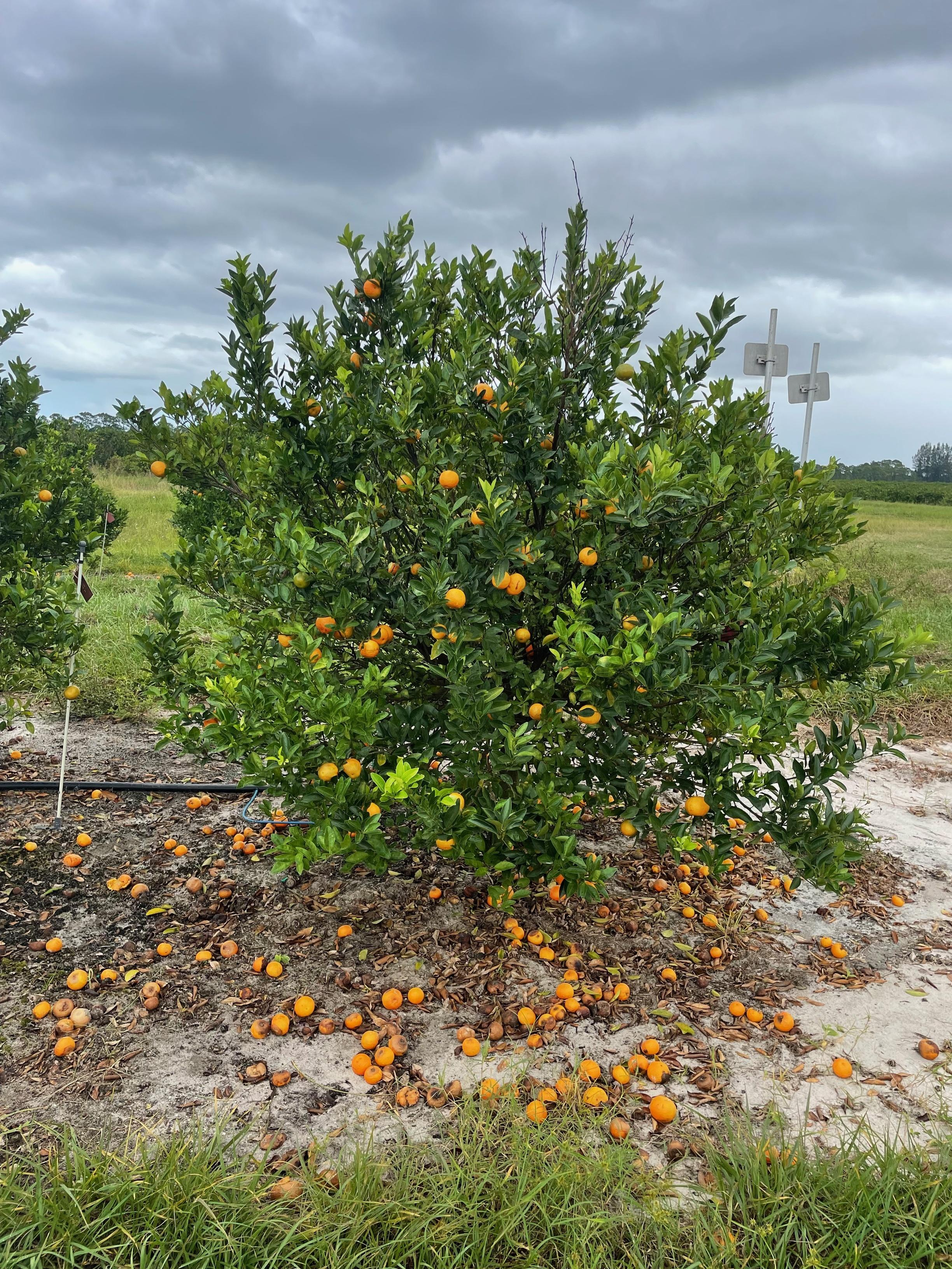fruit_on_ground: (683, 794, 711, 818), (513, 544, 540, 568), (359, 308, 385, 332), (572, 496, 596, 521), (470, 381, 495, 405), (576, 703, 602, 726), (316, 759, 340, 783), (443, 587, 467, 611), (631, 457, 656, 480), (469, 505, 492, 529), (301, 395, 324, 419), (361, 278, 385, 301), (437, 468, 461, 491), (576, 545, 600, 568), (619, 611, 644, 633), (443, 791, 467, 813), (341, 755, 363, 779), (488, 398, 511, 420), (536, 432, 559, 454), (400, 424, 423, 446), (290, 569, 313, 591), (612, 361, 635, 383), (394, 472, 416, 495), (505, 572, 526, 596), (369, 499, 391, 521), (490, 569, 512, 591), (328, 472, 351, 493), (602, 496, 623, 517), (635, 553, 656, 574), (345, 350, 366, 371), (359, 638, 380, 659), (315, 614, 336, 635), (352, 282, 373, 303), (332, 621, 354, 641), (618, 818, 639, 838), (527, 701, 548, 721), (368, 626, 389, 646), (148, 459, 169, 479), (434, 832, 456, 851), (274, 629, 295, 648), (429, 622, 450, 641), (360, 802, 381, 821), (376, 624, 395, 645), (305, 646, 324, 666), (200, 715, 220, 733), (62, 683, 82, 701), (513, 624, 532, 642), (632, 680, 651, 697), (11, 444, 30, 460), (36, 488, 55, 504), (522, 641, 539, 658), (385, 561, 402, 578), (549, 704, 566, 720), (488, 430, 505, 446), (408, 561, 424, 577), (556, 662, 573, 677), (791, 468, 807, 483), (807, 676, 823, 691), (584, 849, 600, 863), (191, 488, 200, 496)
fruit_on_tree: (268, 1176, 301, 1203), (649, 1094, 677, 1122), (580, 1084, 609, 1108), (316, 1166, 342, 1191), (293, 993, 318, 1018), (646, 1059, 672, 1083), (917, 1035, 941, 1061), (710, 1227, 737, 1250), (608, 1116, 632, 1140), (65, 967, 89, 991), (394, 1085, 419, 1108), (576, 1058, 602, 1080), (525, 1100, 548, 1124), (773, 1009, 796, 1033), (831, 1055, 854, 1079), (381, 987, 404, 1010), (693, 1071, 718, 1092), (479, 1076, 501, 1099), (51, 995, 74, 1017), (626, 1051, 650, 1072), (53, 1037, 77, 1058), (515, 1004, 537, 1026), (425, 1086, 447, 1108), (70, 1007, 92, 1029), (373, 1043, 396, 1064), (760, 1142, 780, 1166), (270, 1012, 290, 1036), (664, 1139, 686, 1160), (360, 1031, 382, 1052), (780, 1145, 800, 1168), (639, 1035, 662, 1055), (242, 1062, 266, 1081), (502, 916, 523, 937), (485, 1021, 506, 1042), (389, 1034, 411, 1054), (350, 1052, 370, 1074), (250, 1016, 270, 1038), (500, 1082, 521, 1102), (548, 1002, 568, 1023), (611, 1064, 632, 1084), (270, 1068, 292, 1087), (31, 998, 51, 1018), (364, 1065, 384, 1085), (613, 981, 632, 1002), (461, 1039, 482, 1058), (555, 1075, 575, 1094), (142, 987, 161, 1007), (343, 1010, 363, 1029), (406, 985, 425, 1005), (537, 1085, 558, 1103), (128, 881, 149, 899), (555, 981, 574, 1000), (141, 980, 161, 998), (658, 966, 678, 984), (219, 939, 239, 957), (54, 1017, 75, 1034), (485, 890, 504, 908), (727, 1000, 746, 1018), (265, 959, 284, 977), (744, 1004, 763, 1022), (587, 984, 605, 1002), (548, 884, 566, 902), (317, 1017, 335, 1035), (537, 1014, 556, 1031), (700, 911, 719, 928), (185, 876, 203, 893), (75, 830, 93, 847), (45, 935, 63, 952), (621, 918, 640, 934), (456, 1024, 475, 1040), (525, 1033, 544, 1049), (193, 947, 212, 963), (61, 851, 81, 866), (607, 983, 623, 1001), (526, 928, 544, 944), (99, 966, 117, 982), (830, 942, 848, 958), (562, 968, 581, 983), (538, 946, 557, 961), (272, 813, 289, 829), (564, 996, 581, 1012), (817, 933, 834, 949), (252, 955, 268, 972), (889, 891, 906, 907), (156, 940, 173, 956), (781, 876, 796, 894), (447, 1078, 462, 1096), (587, 957, 606, 971), (335, 923, 354, 937), (753, 906, 769, 922), (651, 877, 667, 892), (676, 862, 691, 878), (185, 794, 201, 809), (564, 940, 580, 954), (427, 885, 443, 899), (584, 849, 599, 863), (596, 904, 611, 918), (677, 881, 692, 895), (681, 905, 696, 919), (709, 944, 724, 958), (238, 984, 252, 998), (696, 863, 710, 877), (243, 840, 257, 854), (508, 936, 523, 949), (732, 843, 747, 856), (174, 843, 189, 856), (217, 886, 232, 899), (271, 808, 287, 820), (569, 803, 583, 816), (724, 817, 738, 830), (761, 832, 775, 845), (721, 857, 735, 870), (23, 839, 37, 852), (259, 824, 273, 837), (198, 793, 212, 806), (582, 877, 597, 889), (162, 837, 177, 849), (768, 874, 781, 887), (231, 832, 245, 844), (9, 748, 23, 760), (241, 826, 255, 838), (581, 811, 594, 823), (553, 872, 566, 884), (650, 862, 663, 874), (213, 856, 226, 868), (90, 788, 103, 800), (201, 823, 214, 835), (733, 815, 746, 827), (231, 840, 246, 850), (703, 838, 716, 849), (225, 825, 238, 836), (126, 570, 134, 577)
